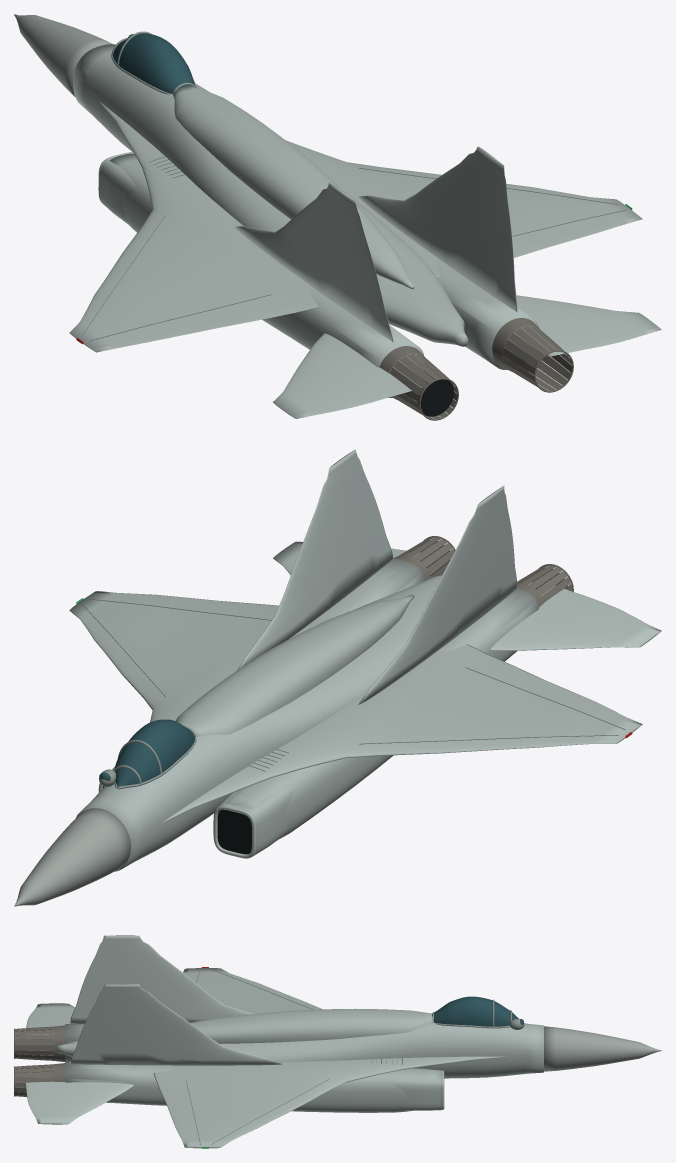
File: mig29s.glb
The picture shows the model from 3 angles, top to bottom: view 1: azimuth 30°, elevation 25°; view 2: azimuth 150°, elevation 25°; view 3: azimuth 270°, elevation 25°; orthographic projection. The views are drawn at different scales.
Visible parts, largest first — view 1: static.MiG-29S (9-13) satin paint, static.Light control panels.003, static.Heat-darkened exhaust metal.003, static.Dielectric nose.003, static.Tinted canopy.003, static.Deep recess.003, static.Restrained panel seam.003; view 2: static.MiG-29S (9-13) satin paint, static.Light control panels.003, static.Dielectric nose.003, static.Tinted canopy.003, static.Heat-darkened exhaust metal.003, static.Deep recess.003, static.Restrained panel seam.003, static.Canopy structural frame.003; view 3: static.MiG-29S (9-13) satin paint, static.Light control panels.003, static.Dielectric nose.003, static.Heat-darkened exhaust metal.003, static.Tinted canopy.003, static.Canopy structural frame.003, static.Restrained panel seam.003.
Boxes of the visible parts, bbox=[...] form: static.MiG-29S (9-13) satin paint: bbox=[69, 44, 642, 397]; static.Light control panels.003: bbox=[98, 152, 661, 418]; static.Heat-darkened exhaust metal.003: bbox=[379, 318, 573, 420]; static.Dielectric nose.003: bbox=[14, 14, 112, 96]; static.Tinted canopy.003: bbox=[113, 33, 194, 93]; static.Deep recess.003: bbox=[417, 377, 453, 416]; static.Restrained panel seam.003: bbox=[82, 156, 625, 340]; static.MiG-29S (9-13) satin paint: bbox=[69, 449, 642, 871]; static.Light control panels.003: bbox=[98, 541, 661, 858]; static.Dielectric nose.003: bbox=[14, 808, 130, 906]; static.Tinted canopy.003: bbox=[99, 719, 195, 788]; static.Heat-darkened exhaust metal.003: bbox=[394, 536, 573, 607]; static.Deep recess.003: bbox=[103, 540, 567, 854]; static.Restrained panel seam.003: bbox=[82, 599, 625, 771]; static.Canopy structural frame.003: bbox=[99, 725, 196, 789]; static.MiG-29S (9-13) satin paint: bbox=[57, 935, 543, 1148]; static.Light control panels.003: bbox=[25, 1003, 444, 1124]; static.Dielectric nose.003: bbox=[544, 1026, 661, 1071]; static.Heat-darkened exhaust metal.003: bbox=[14, 1025, 65, 1096]; static.Tinted canopy.003: bbox=[432, 996, 523, 1026]; static.Canopy structural frame.003: bbox=[432, 999, 524, 1029]; static.Restrained panel seam.003: bbox=[186, 969, 402, 1144].
Bounding box in the file's own units: 11.4 × 3.85 × 17.3.
